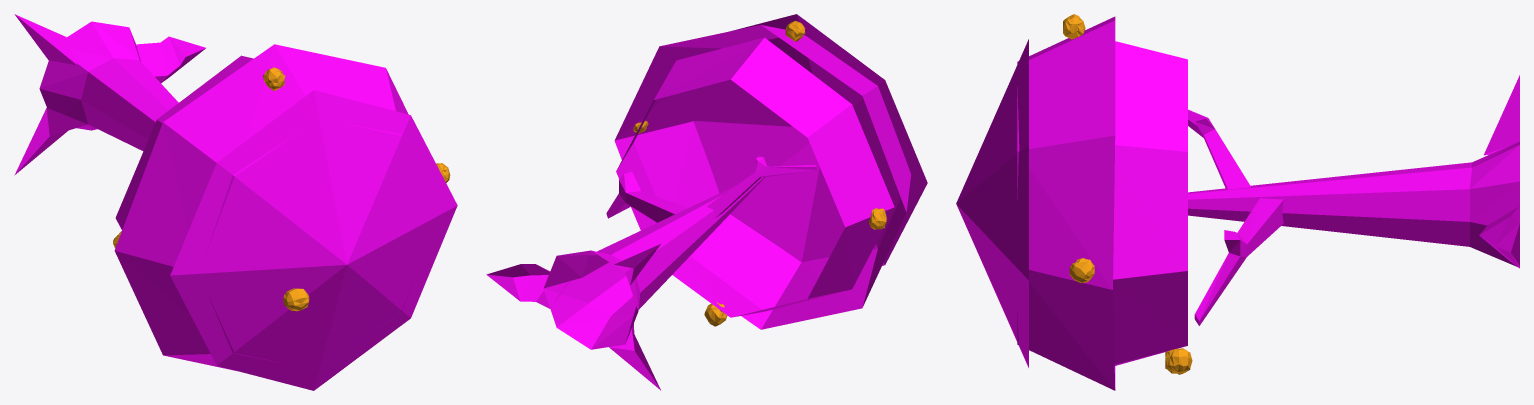
The model's file is 5_mature_full.obj.
3 views of the same model, side by side, from view 1: azimuth 30°, elevation 25°; view 2: azimuth 150°, elevation 25°; view 3: azimuth 270°, elevation 25° (orthographic). The views are drawn at different scales.
Parts seen in each view (by area): view 1: orangetree; view 2: orangetree; view 3: orangetree.
Boxes of the visible parts, bbox=[...] form: orangetree: bbox=[14, 14, 457, 390]; orangetree: bbox=[486, 14, 927, 390]; orangetree: bbox=[956, 14, 1519, 390].
Bounding box in the file's own units: 1.79 × 1.78 × 2.48.
